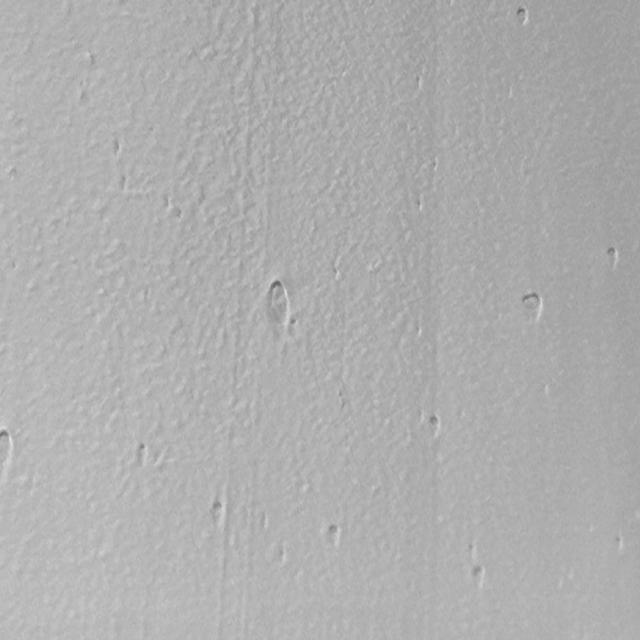pin holes: (263, 276, 293, 332), (520, 289, 546, 323), (0, 428, 16, 465), (468, 563, 488, 592), (208, 498, 228, 526), (323, 522, 343, 550), (602, 246, 622, 273), (424, 413, 443, 440), (135, 441, 152, 468), (609, 534, 628, 558), (513, 5, 531, 29), (466, 542, 481, 562), (112, 137, 125, 157)
